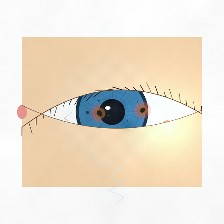foreign_body_visible: (83, 100, 116, 126)
